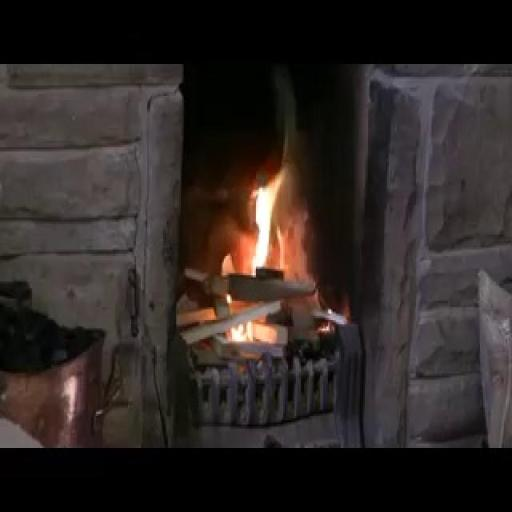smoke: (230, 162, 292, 280)
